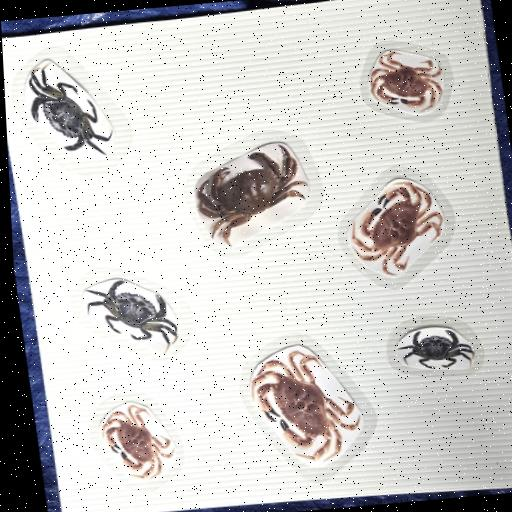European green crab: (12, 50, 123, 166), (75, 271, 190, 359), (379, 307, 496, 379)
John Crab: (179, 144, 327, 248)
Native rock crab: (235, 340, 384, 478), (327, 170, 468, 286), (88, 395, 188, 487), (358, 26, 451, 120)
